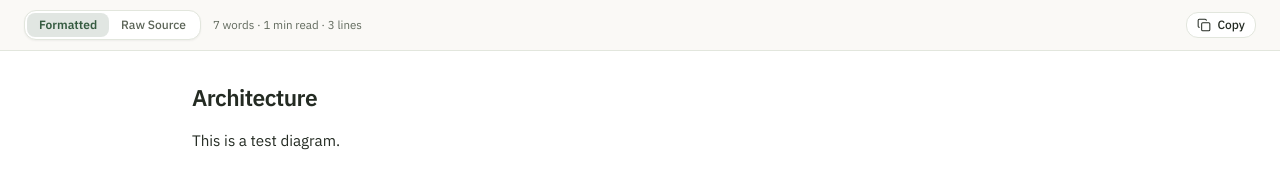
Document Viewers for all artifact types › MarkdownViewer › renders formatted markdown and allows switching to raw source
This screenshot has width=1280, height=193.
Expected: the heading "Architecture" is shown, [192,83,317,112]
Expected: the button "Formatted" is shown, [27,13,109,37]
// Toggle to raw
What coordinates should you click on to do the following:
click the button "Raw Source"
I would click on:
 (154, 25)
Its box is [109,13,198,37].
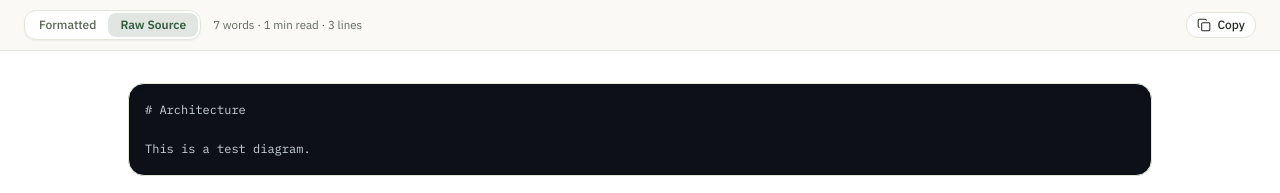
Expected: the button "Copy" is shown, [1186,12,1256,38]
Result: the text "# Architecture This is a test diagram." is shown at [145,102,311,156]
